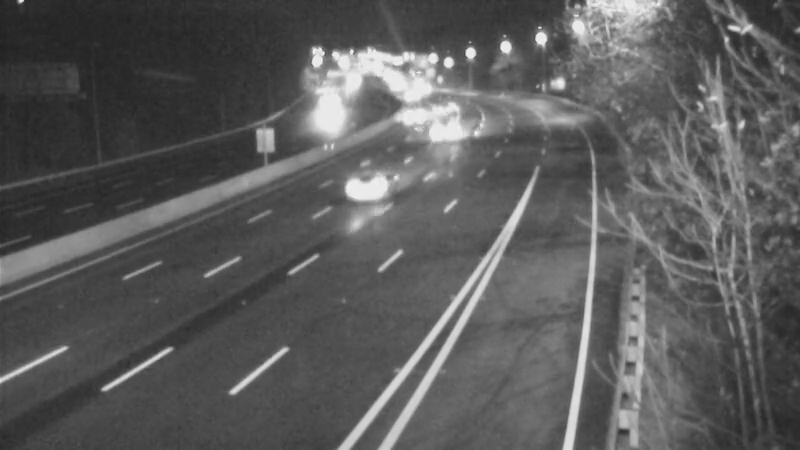vehicle: (331, 147, 411, 227), (388, 71, 438, 121), (417, 86, 467, 136), (385, 92, 435, 142), (418, 108, 468, 158), (301, 86, 351, 136)
